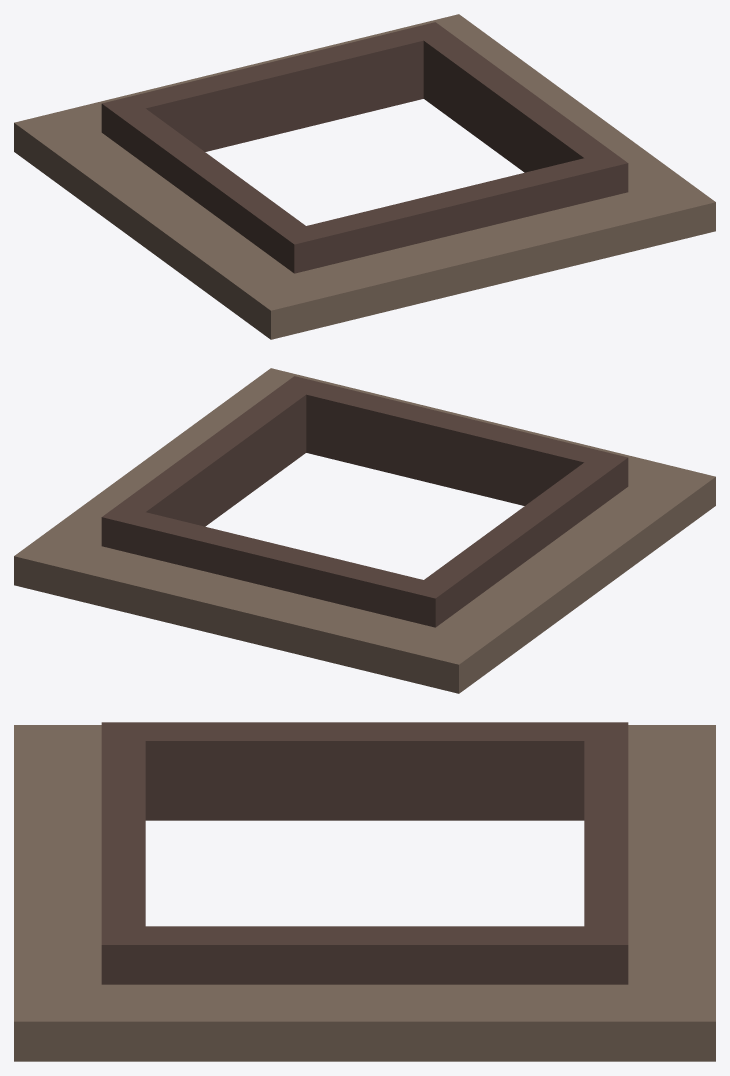
The model's file is floor_trapdoor.fbx.
3 renders of one model, top to bottom at view 1: azimuth 30°, elevation 25°; view 2: azimuth 150°, elevation 25°; view 3: azimuth 270°, elevation 25°, orthographic. The views are drawn at different scales.
Visible parts, largest first — view 1: floor_trapdoor_0; view 2: floor_trapdoor_0; view 3: floor_trapdoor_0.
Boxes of the visible parts, box(x1,y1,x2,y2) form: floor_trapdoor_0: box(14, 14, 715, 339); floor_trapdoor_0: box(14, 368, 715, 693); floor_trapdoor_0: box(14, 722, 715, 1061).
Size of the model in its own units: 1600 by 1600 by 200.
